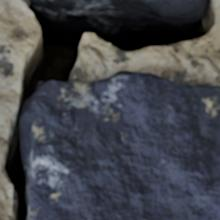brick: (20, 71, 219, 219), (146, 0, 201, 5)
crack: (2, 0, 219, 219)
